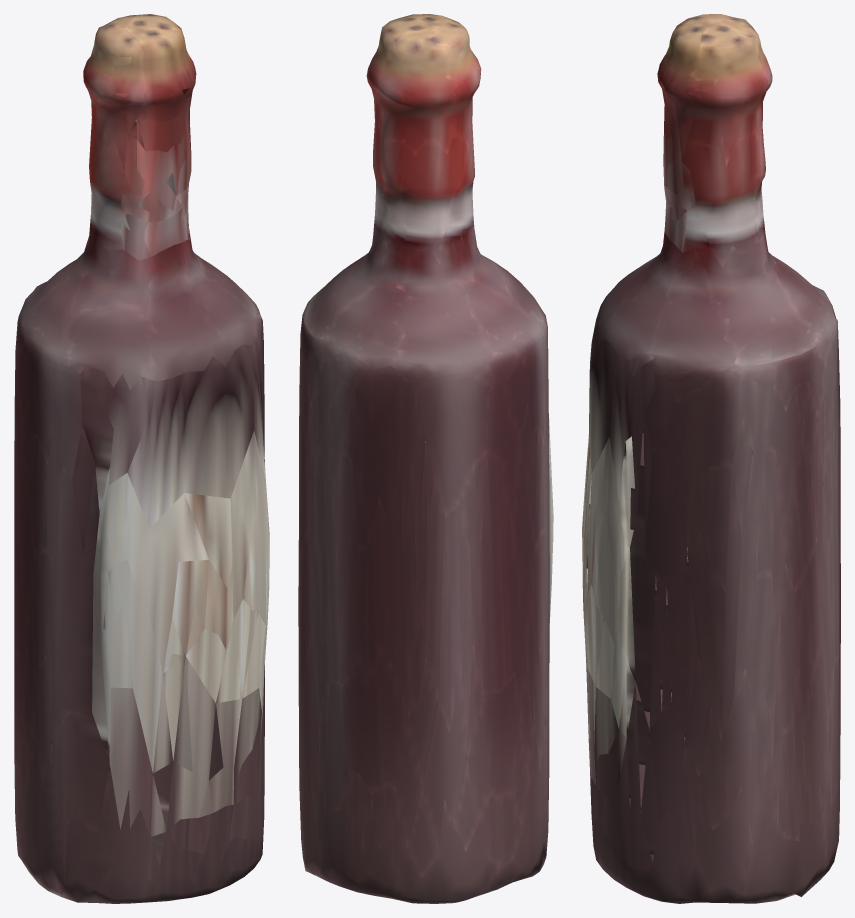
File: 葡萄酒.fbx
3 renders of one model, left to right at view 1: azimuth 30°, elevation 25°; view 2: azimuth 150°, elevation 25°; view 3: azimuth 270°, elevation 25°, orthographic.
Visible parts, largest first — view 1: geometry_0.006; view 2: geometry_0.006; view 3: geometry_0.006.
Part boxes in pixels (left/top/right/bottom): geometry_0.006: left=14, top=14, right=269, bottom=903; geometry_0.006: left=298, top=14, right=553, bottom=903; geometry_0.006: left=582, top=14, right=840, bottom=903.
Size of the model in its own units: 27.31 by 100 by 28.27.
